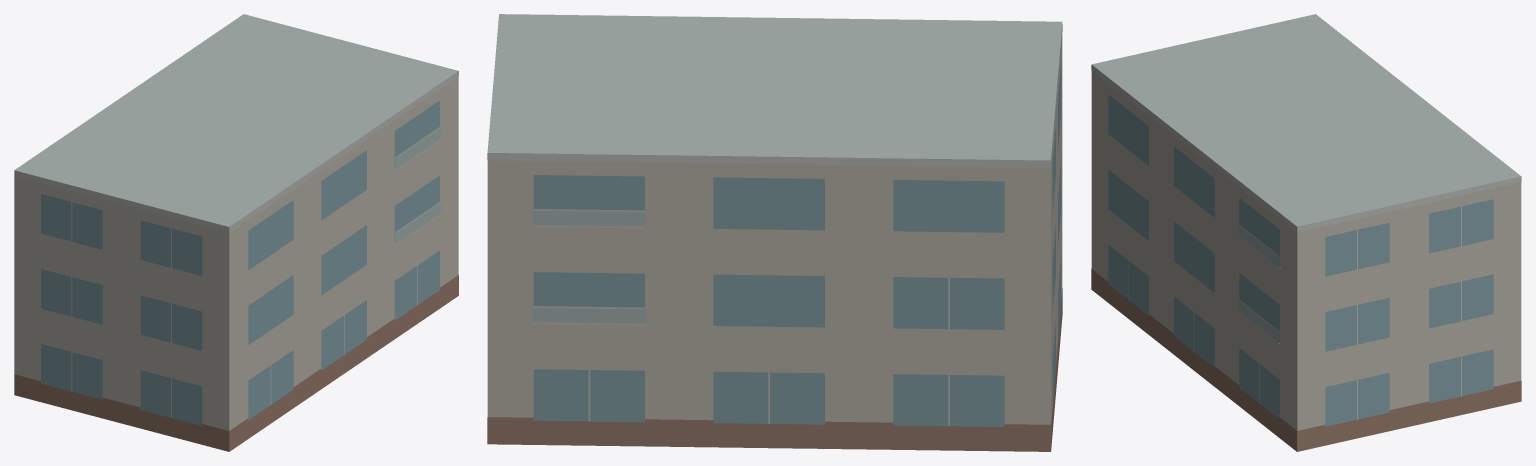
Rendered from survey-upis-32827770.glb.
3 views of the same model, side by side, from view 1: azimuth 30°, elevation 25°; view 2: azimuth 150°, elevation 25°; view 3: azimuth 270°, elevation 25° (orthographic). The views are drawn at different scales.
Visible parts, largest first — view 1: survey-upis-32827770.tmp; view 2: survey-upis-32827770.tmp; view 3: survey-upis-32827770.tmp.
Part boxes in pixels (bbox=[...]): survey-upis-32827770.tmp: bbox=[14, 14, 458, 451]; survey-upis-32827770.tmp: bbox=[487, 14, 1062, 451]; survey-upis-32827770.tmp: bbox=[1091, 14, 1521, 451].
Bounding box in the file's own units: 19.05 × 9.4 × 16.27.
